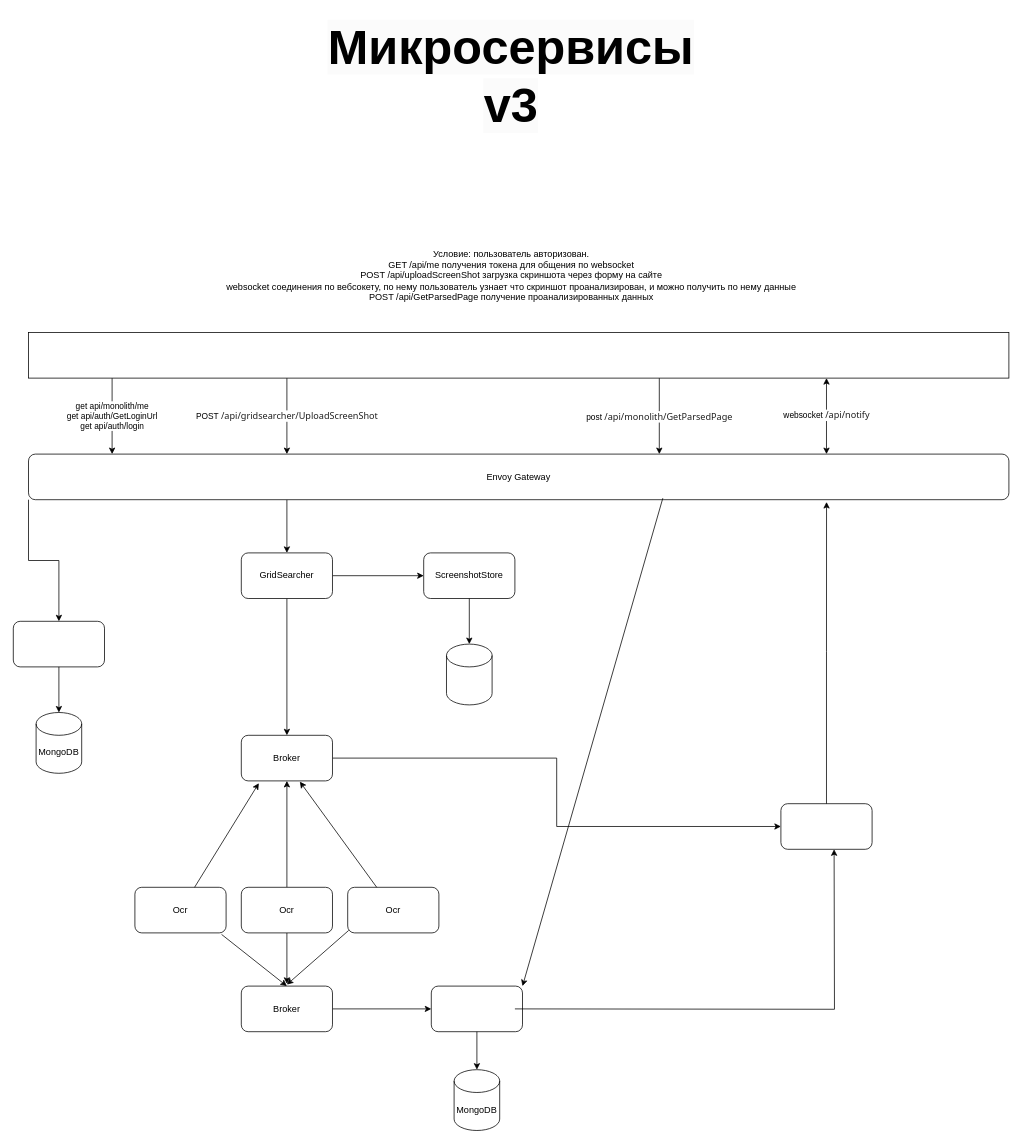
Some shapes in this 1022 by 1144 pixel diagram are drawn without their labels. Here are the shapes that lost their labels. From the top down, the box of each, then its label:
(28, 332, 1009, 378): nginx
(13, 621, 104, 667): Auth
(446, 643, 492, 705): Хранение на диске
(780, 803, 872, 849): Notify
(431, 985, 522, 1032): Monolith
